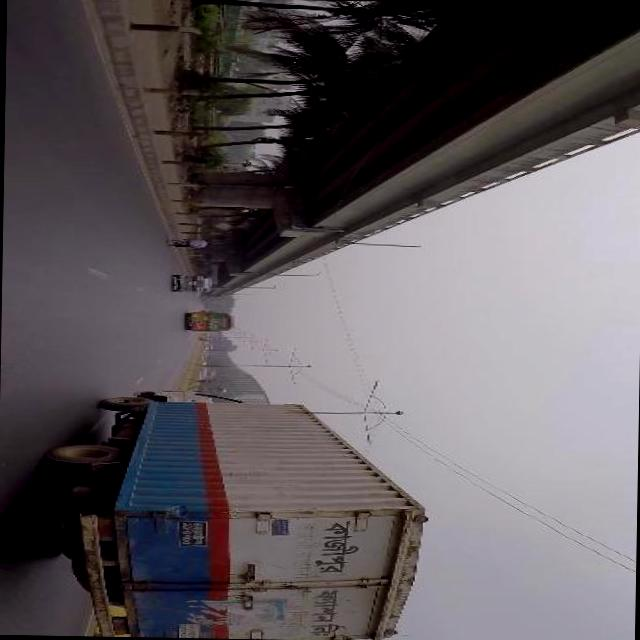bus: (184, 308, 237, 330)
motorcycle: (172, 272, 216, 292)
truck: (41, 385, 434, 640)
